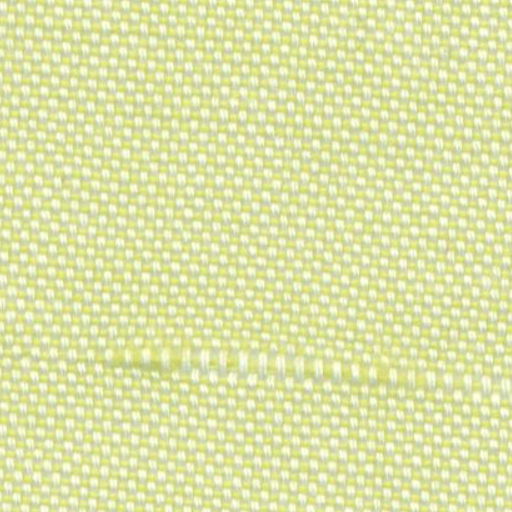DaiSha: (100, 322, 497, 412)
